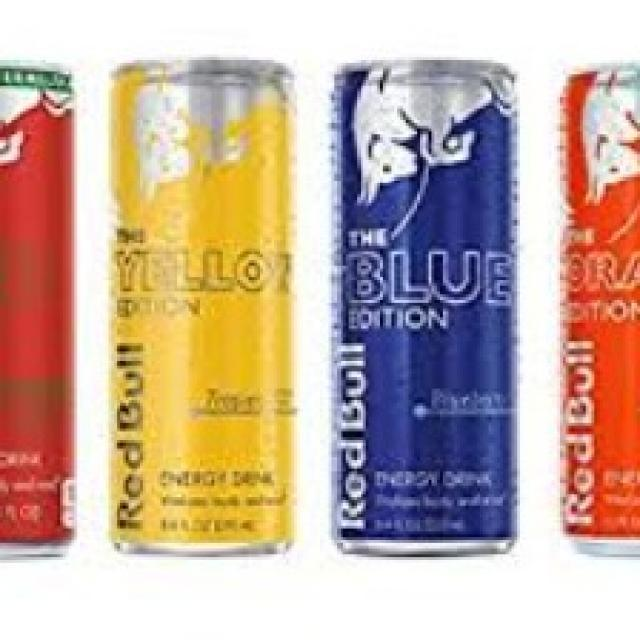metel: (96, 57, 312, 566), (323, 61, 529, 558)
